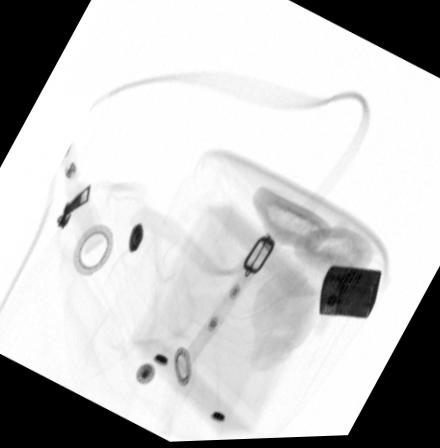Lighter: (316, 267, 382, 322)
